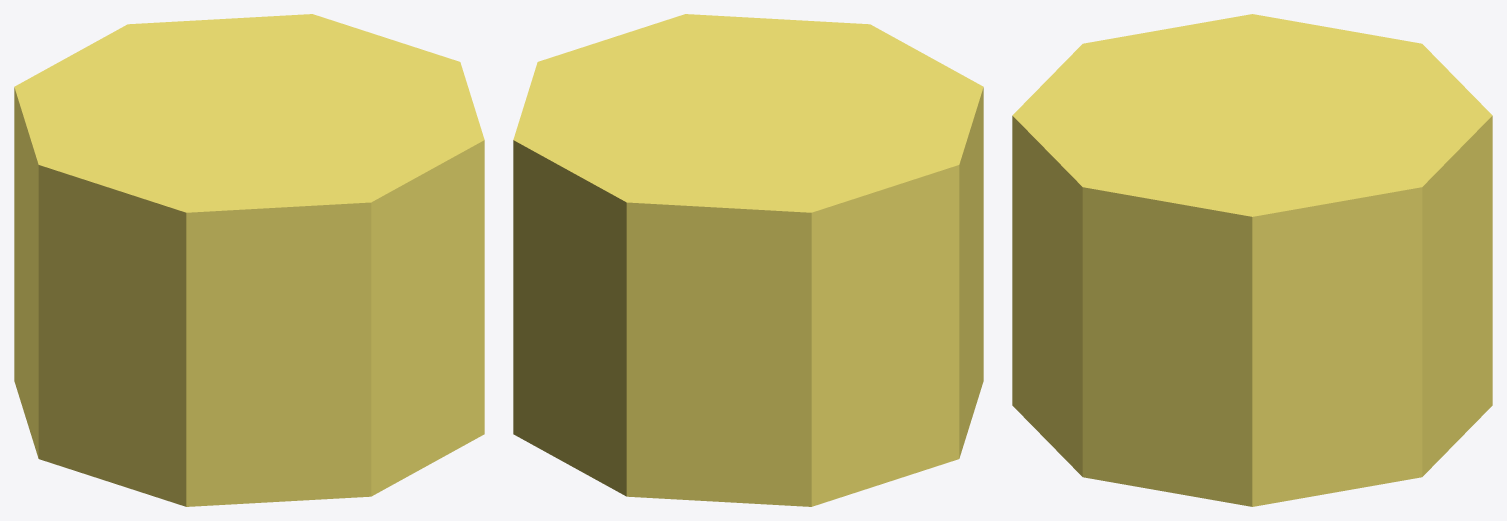
File: octagon.glb
3 renders of one model, left to right at view 1: azimuth 30°, elevation 25°; view 2: azimuth 150°, elevation 25°; view 3: azimuth 270°, elevation 25°, orthographic.
Bounding box in the file's own units: 24 × 16 × 24.
